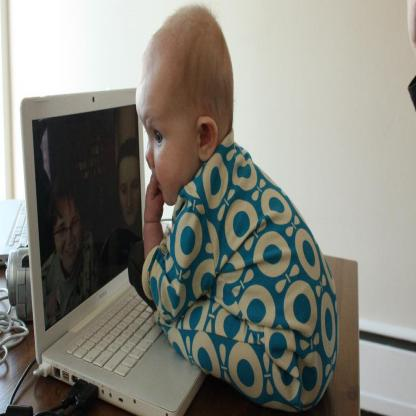board: (18, 86, 206, 416), (0, 197, 28, 262)
